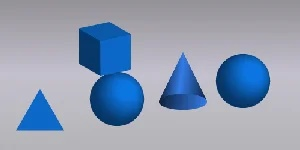三角形: (13, 87, 69, 134)
圆锥体: (158, 51, 209, 111)
正方体: (77, 21, 133, 76)
球体: (213, 52, 273, 108), (90, 71, 146, 128)
